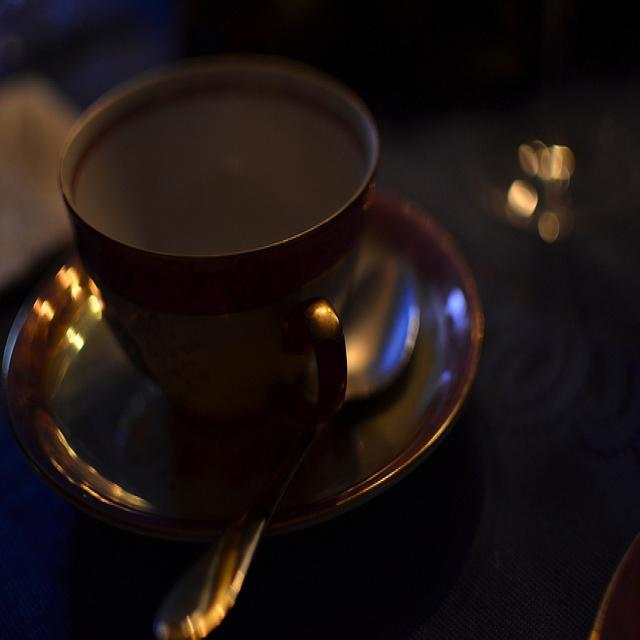Cup: (30, 60, 481, 576)
